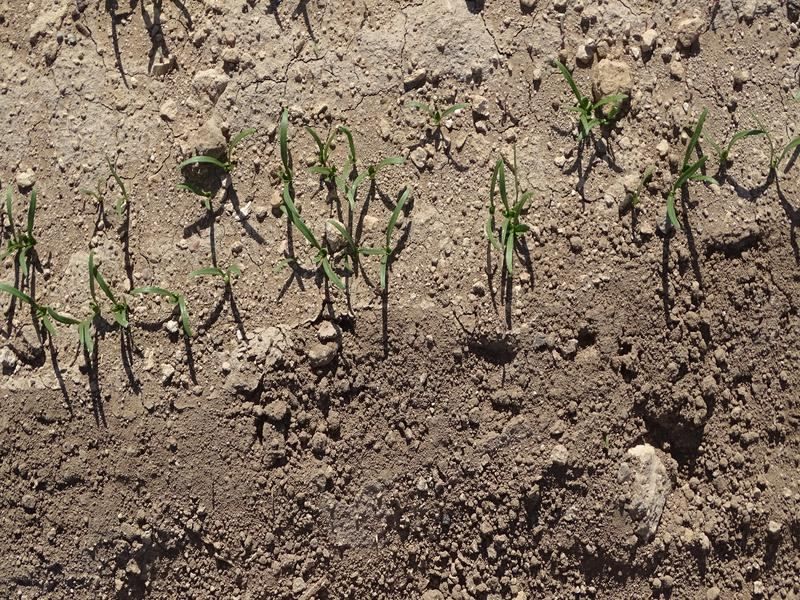Espinaca: (273, 115, 416, 291), (2, 189, 72, 335), (481, 151, 533, 264), (664, 114, 714, 229), (74, 256, 131, 349), (555, 57, 623, 134), (186, 128, 254, 181), (75, 161, 130, 222), (135, 281, 196, 334), (735, 124, 800, 157), (197, 258, 246, 282), (415, 99, 467, 120)
